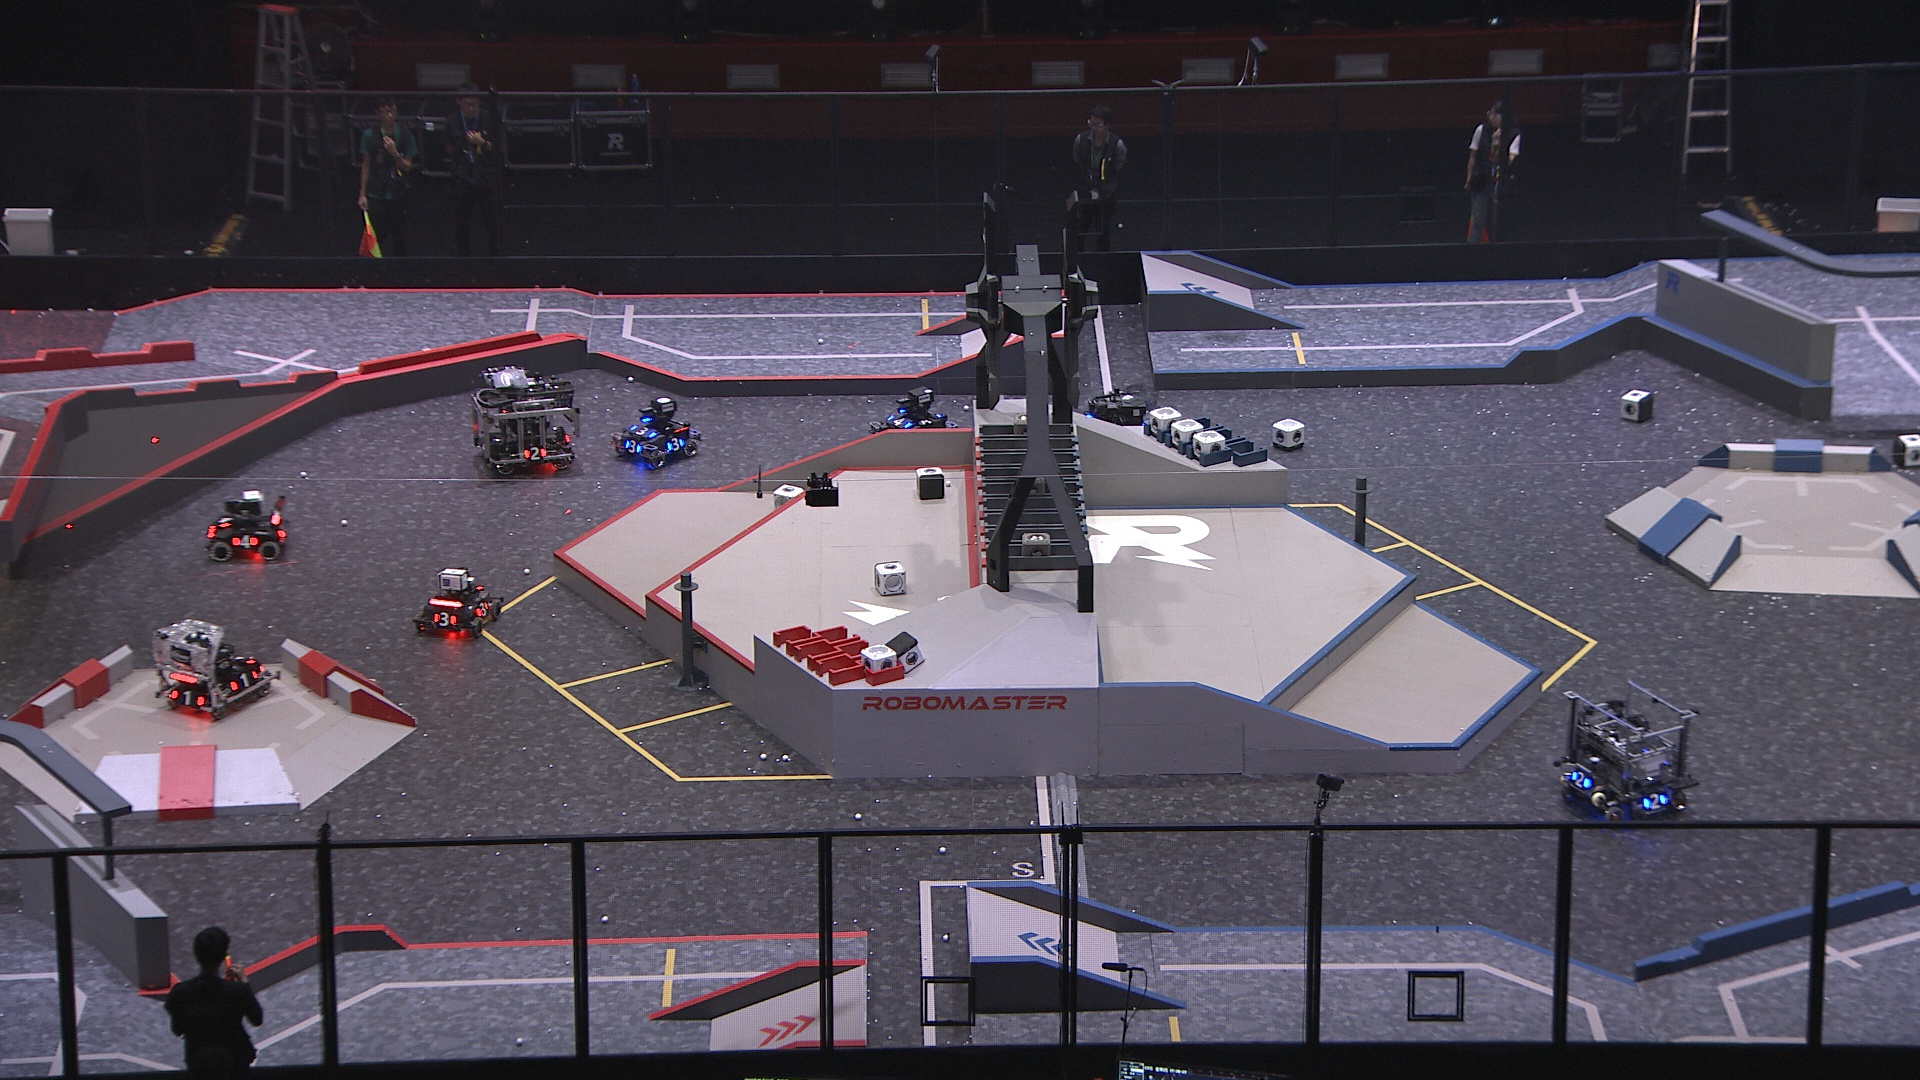armor: (169, 687, 206, 708), (1640, 790, 1671, 812), (229, 671, 258, 694), (231, 533, 262, 551), (430, 612, 460, 629), (1571, 769, 1593, 790), (887, 413, 916, 429), (632, 425, 659, 440), (231, 651, 261, 665), (524, 446, 549, 462), (472, 599, 491, 618), (626, 438, 644, 455), (666, 438, 684, 454), (218, 516, 233, 529)
car: (1556, 680, 1698, 825), (150, 617, 280, 723), (468, 363, 583, 475), (407, 566, 506, 641), (1077, 384, 1158, 469), (612, 396, 703, 467), (204, 491, 289, 564), (869, 386, 959, 448)
